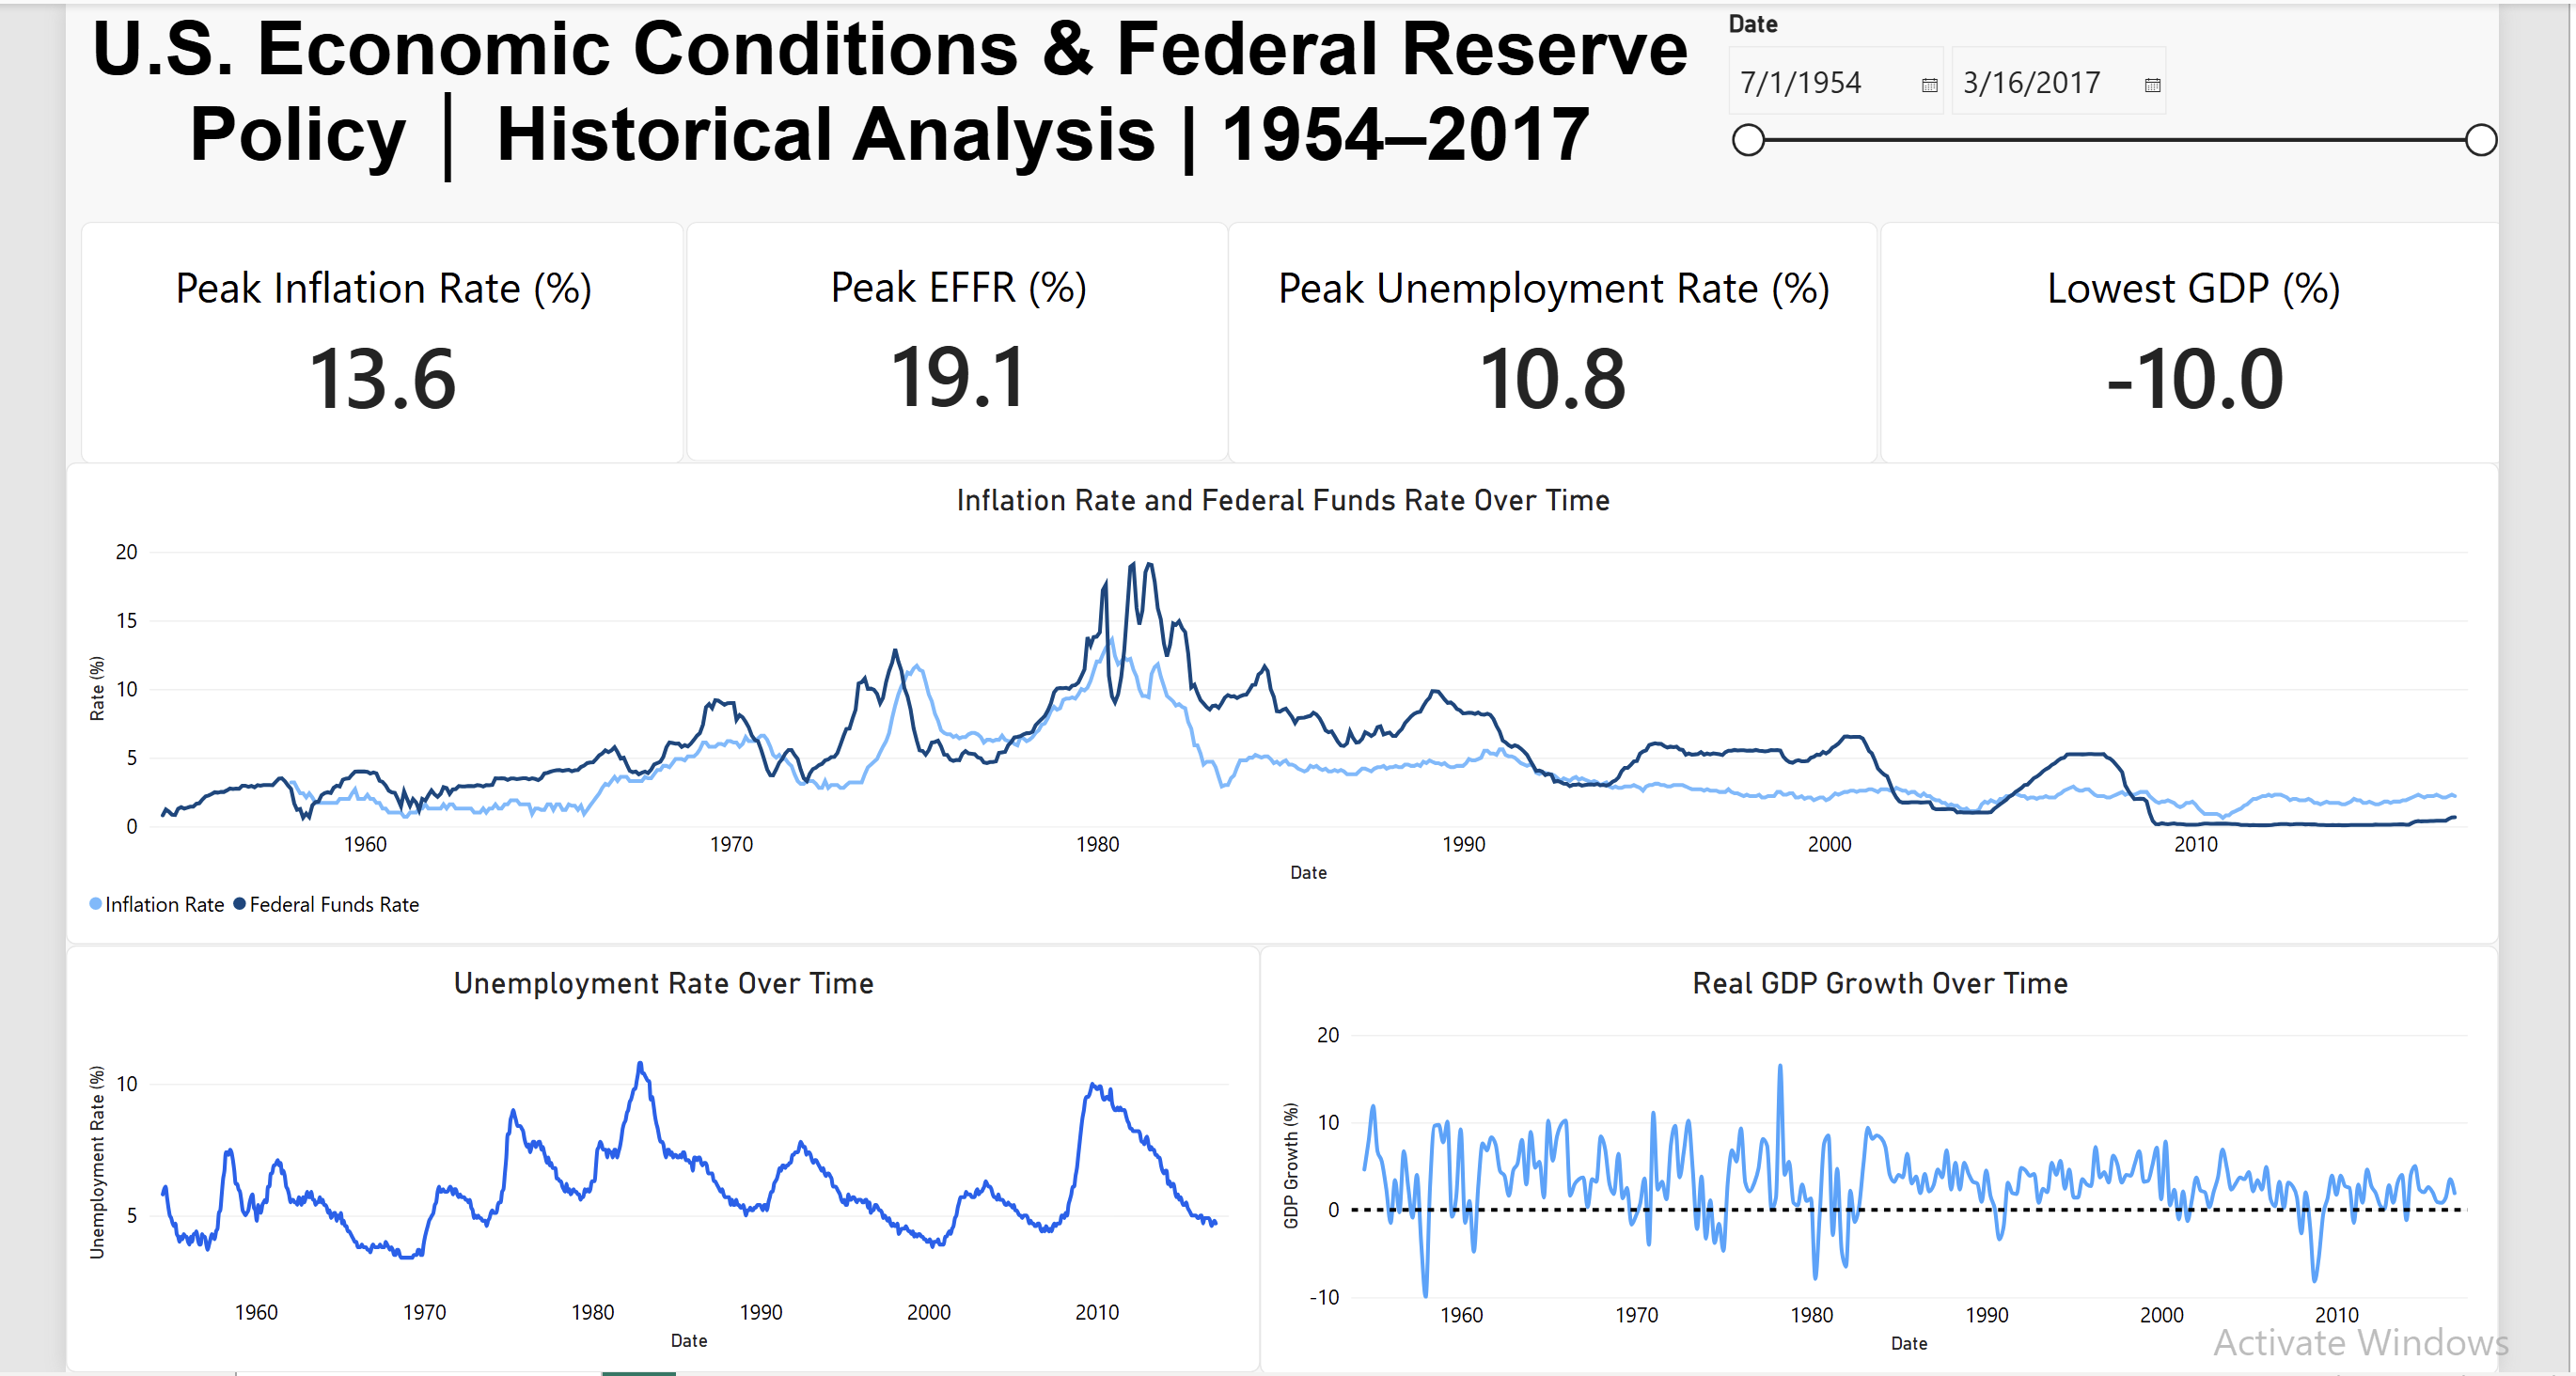

The dashboard page shown, as its layout file describes it:
{"tool":"powerbi","page":{"name":"U.S & Federal Reserve Policy","canvas":[1920,1080],"ordinal":0},"visuals":[{"type":"cardVisual","fields":{"Data":["Max(federal_reserve_cleaned.Inflation Rate)"]},"box":[12.5,172.7,476.4,191.4],"z":0},{"type":"cardVisual","fields":{"Data":["Max(federal_reserve_cleaned.Effective Federal Funds Rate)"]},"box":[488.8,172.7,428.5,189.3],"z":1000},{"type":"cardVisual","fields":{"Data":["Max(federal_reserve_cleaned.Unemployment Rate)"]},"box":[917.4,172.7,513.8,191.4],"z":2000},{"type":"cardVisual","fields":{"Data":["Min(federal_reserve_cleaned.Real GDP (Percent Change))"]},"box":[1431.2,172.7,493,191.4],"z":3000},{"type":"lineChart","title":"Inflation Rate and Federal Funds Rate Over Time","fields":{"Category":["federal_reserve_cleaned.Date"],"Y":["Avg(federal_reserve_cleaned.Inflation Rate)","Avg(federal_reserve_cleaned.Effective Federal Funds Rate)"]},"box":[0,362,1920,380.7],"z":4000},{"type":"lineChart","title":"Unemployment Rate Over Time","fields":{"Category":["federal_reserve_cleaned.Date"],"Y":["Avg(federal_reserve_cleaned.Unemployment Rate)"]},"box":[0,742.6,942.3,337],"z":5000},{"type":"lineChart","title":"Real GDP Growth Over Time","fields":{"Category":["federal_reserve_cleaned.Date"],"Y":["Avg(federal_reserve_cleaned.Real GDP (Percent Change))"]},"box":[942.3,742.6,977.7,339.1],"z":6000},{"type":"textbox","box":[12.5,2.1,1277.2,149.8],"z":7000},{"type":"slicer","fields":{"Values":["federal_reserve_cleaned.Date"]},"box":[1304.3,4.2,617.8,168.5],"z":7001}]}

Visuals, with their boxes on the page's 1920x1080 design canvas (x1, y1, x2, y2). These are canvas units, not pixel positions in the 2576x1376 screenshot, which may show the page scaled, cropped or inside an application window:
cardVisual - Max(federal_reserve_cleaned.Inflation Rate): bbox=[12, 173, 489, 364]
cardVisual - Max(federal_reserve_cleaned.Effective Federal Funds Rate): bbox=[489, 173, 917, 362]
cardVisual - Max(federal_reserve_cleaned.Unemployment Rate): bbox=[917, 173, 1431, 364]
cardVisual - Min(federal_reserve_cleaned.Real GDP (Percent Change)): bbox=[1431, 173, 1924, 364]
"Inflation Rate and Federal Funds Rate Over Time" lineChart: bbox=[0, 362, 1920, 743]
"Unemployment Rate Over Time" lineChart: bbox=[0, 743, 942, 1080]
"Real GDP Growth Over Time" lineChart: bbox=[942, 743, 1920, 1082]
textbox: bbox=[12, 2, 1290, 152]
slicer - federal_reserve_cleaned.Date: bbox=[1304, 4, 1922, 173]
